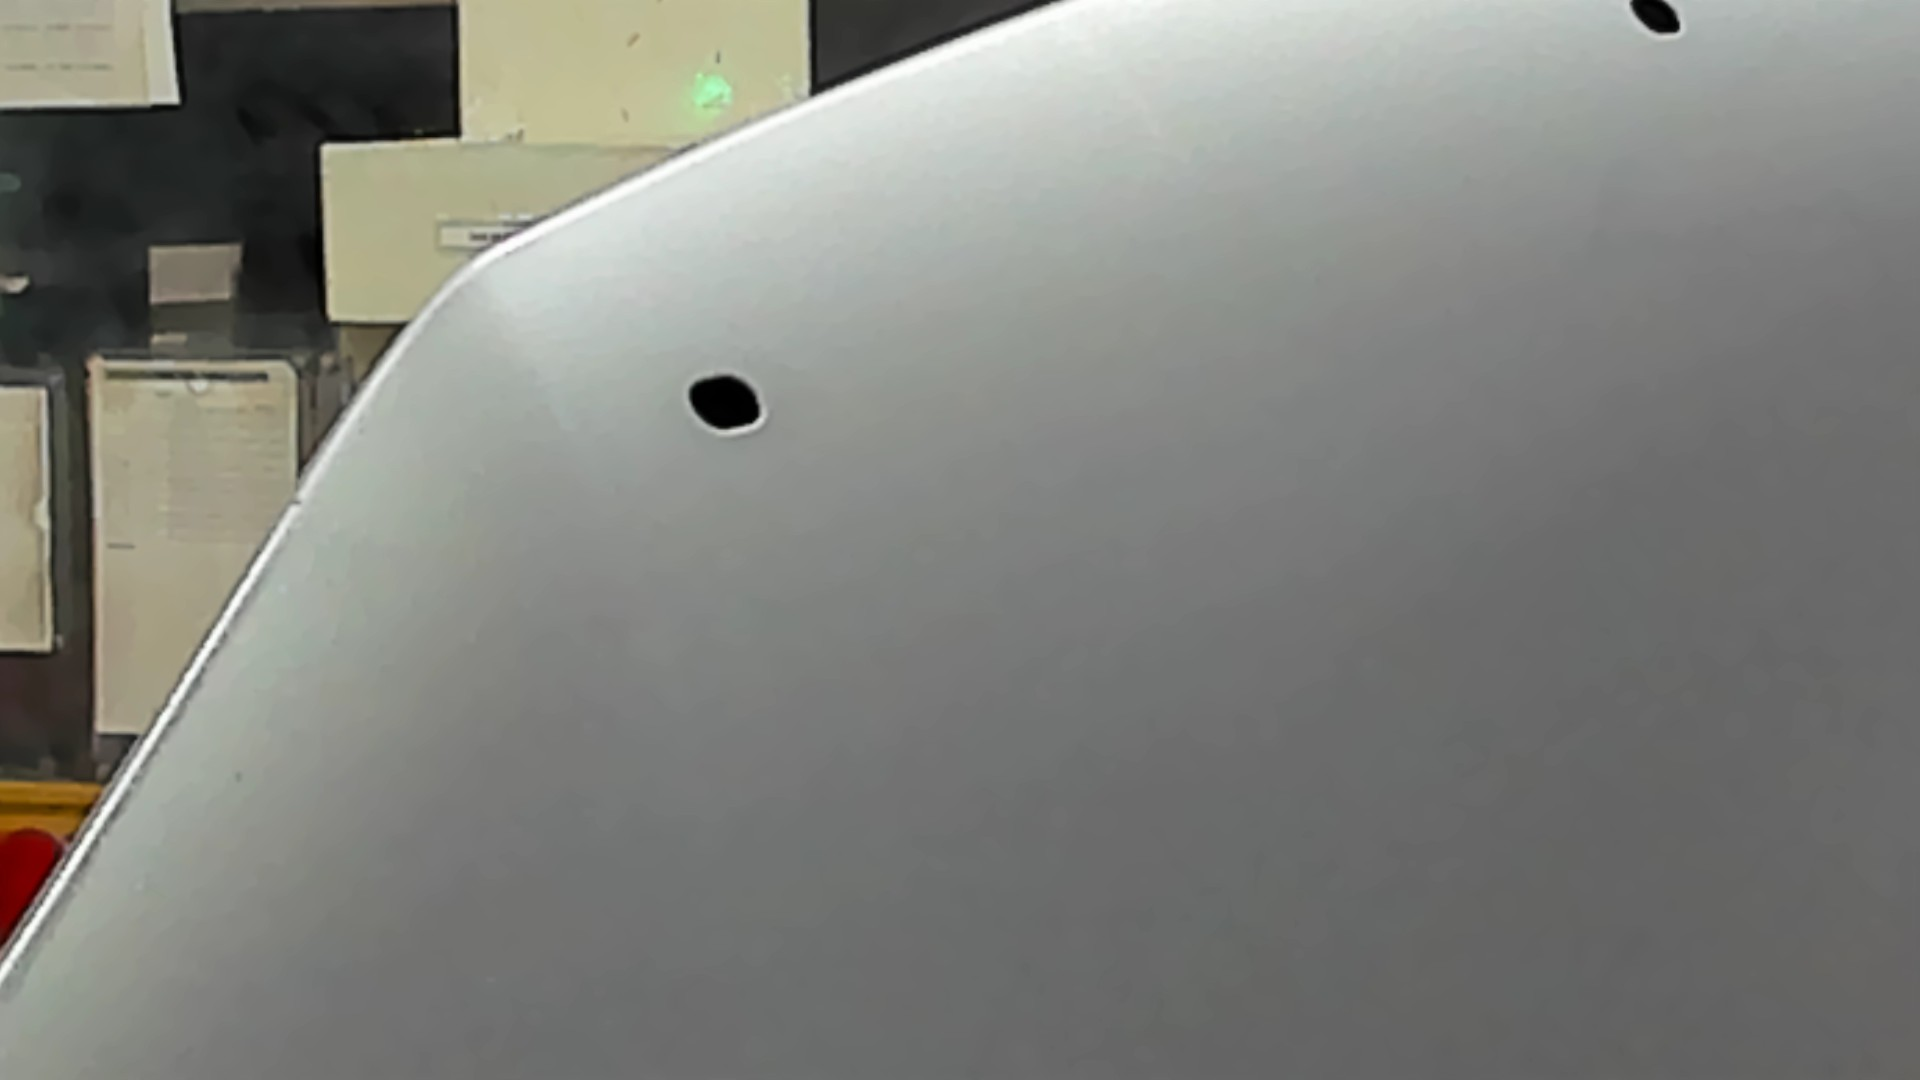chico: (675, 365, 802, 446), (1619, 1, 1693, 47)
